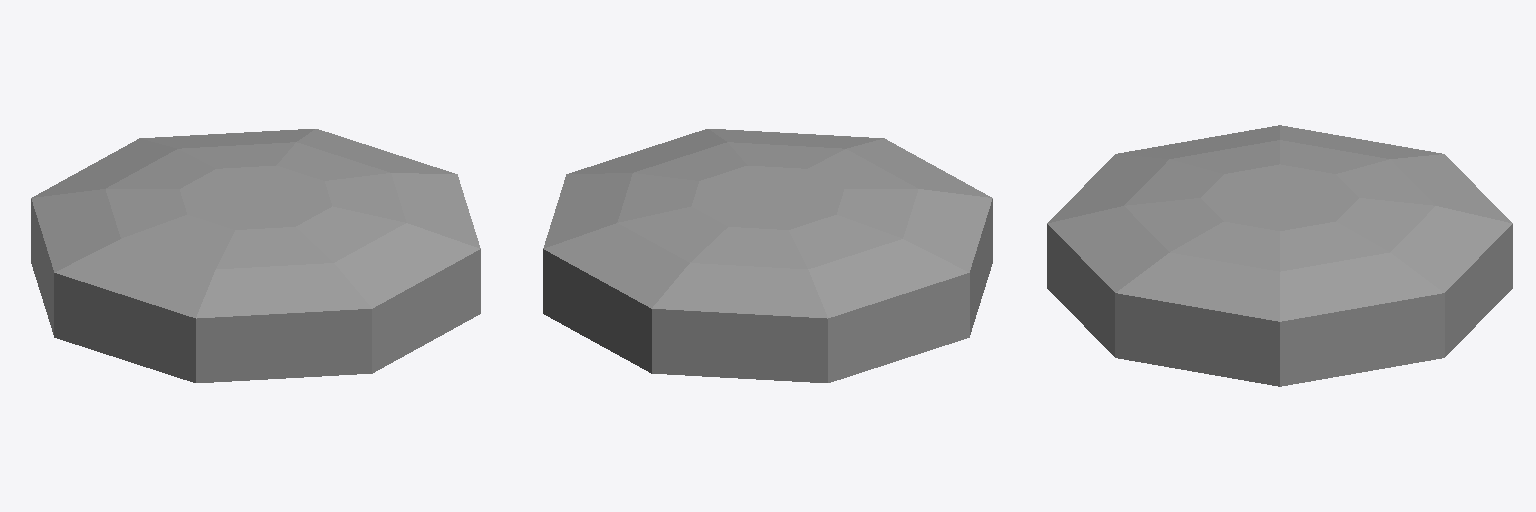
File: pastilla.obj
3 renders of one model, left to right at view 1: azimuth 30°, elevation 25°; view 2: azimuth 150°, elevation 25°; view 3: azimuth 270°, elevation 25°, orthographic.
Visible parts, largest first — view 1: Circle; view 2: Circle; view 3: Circle.
Part boxes in pixels (x1,y1,x2,y2): Circle: (31,129,480,382); Circle: (543,129,992,382); Circle: (1047,125,1512,386).
Bounding box in the file's own units: 2 × 0.5515 × 2.